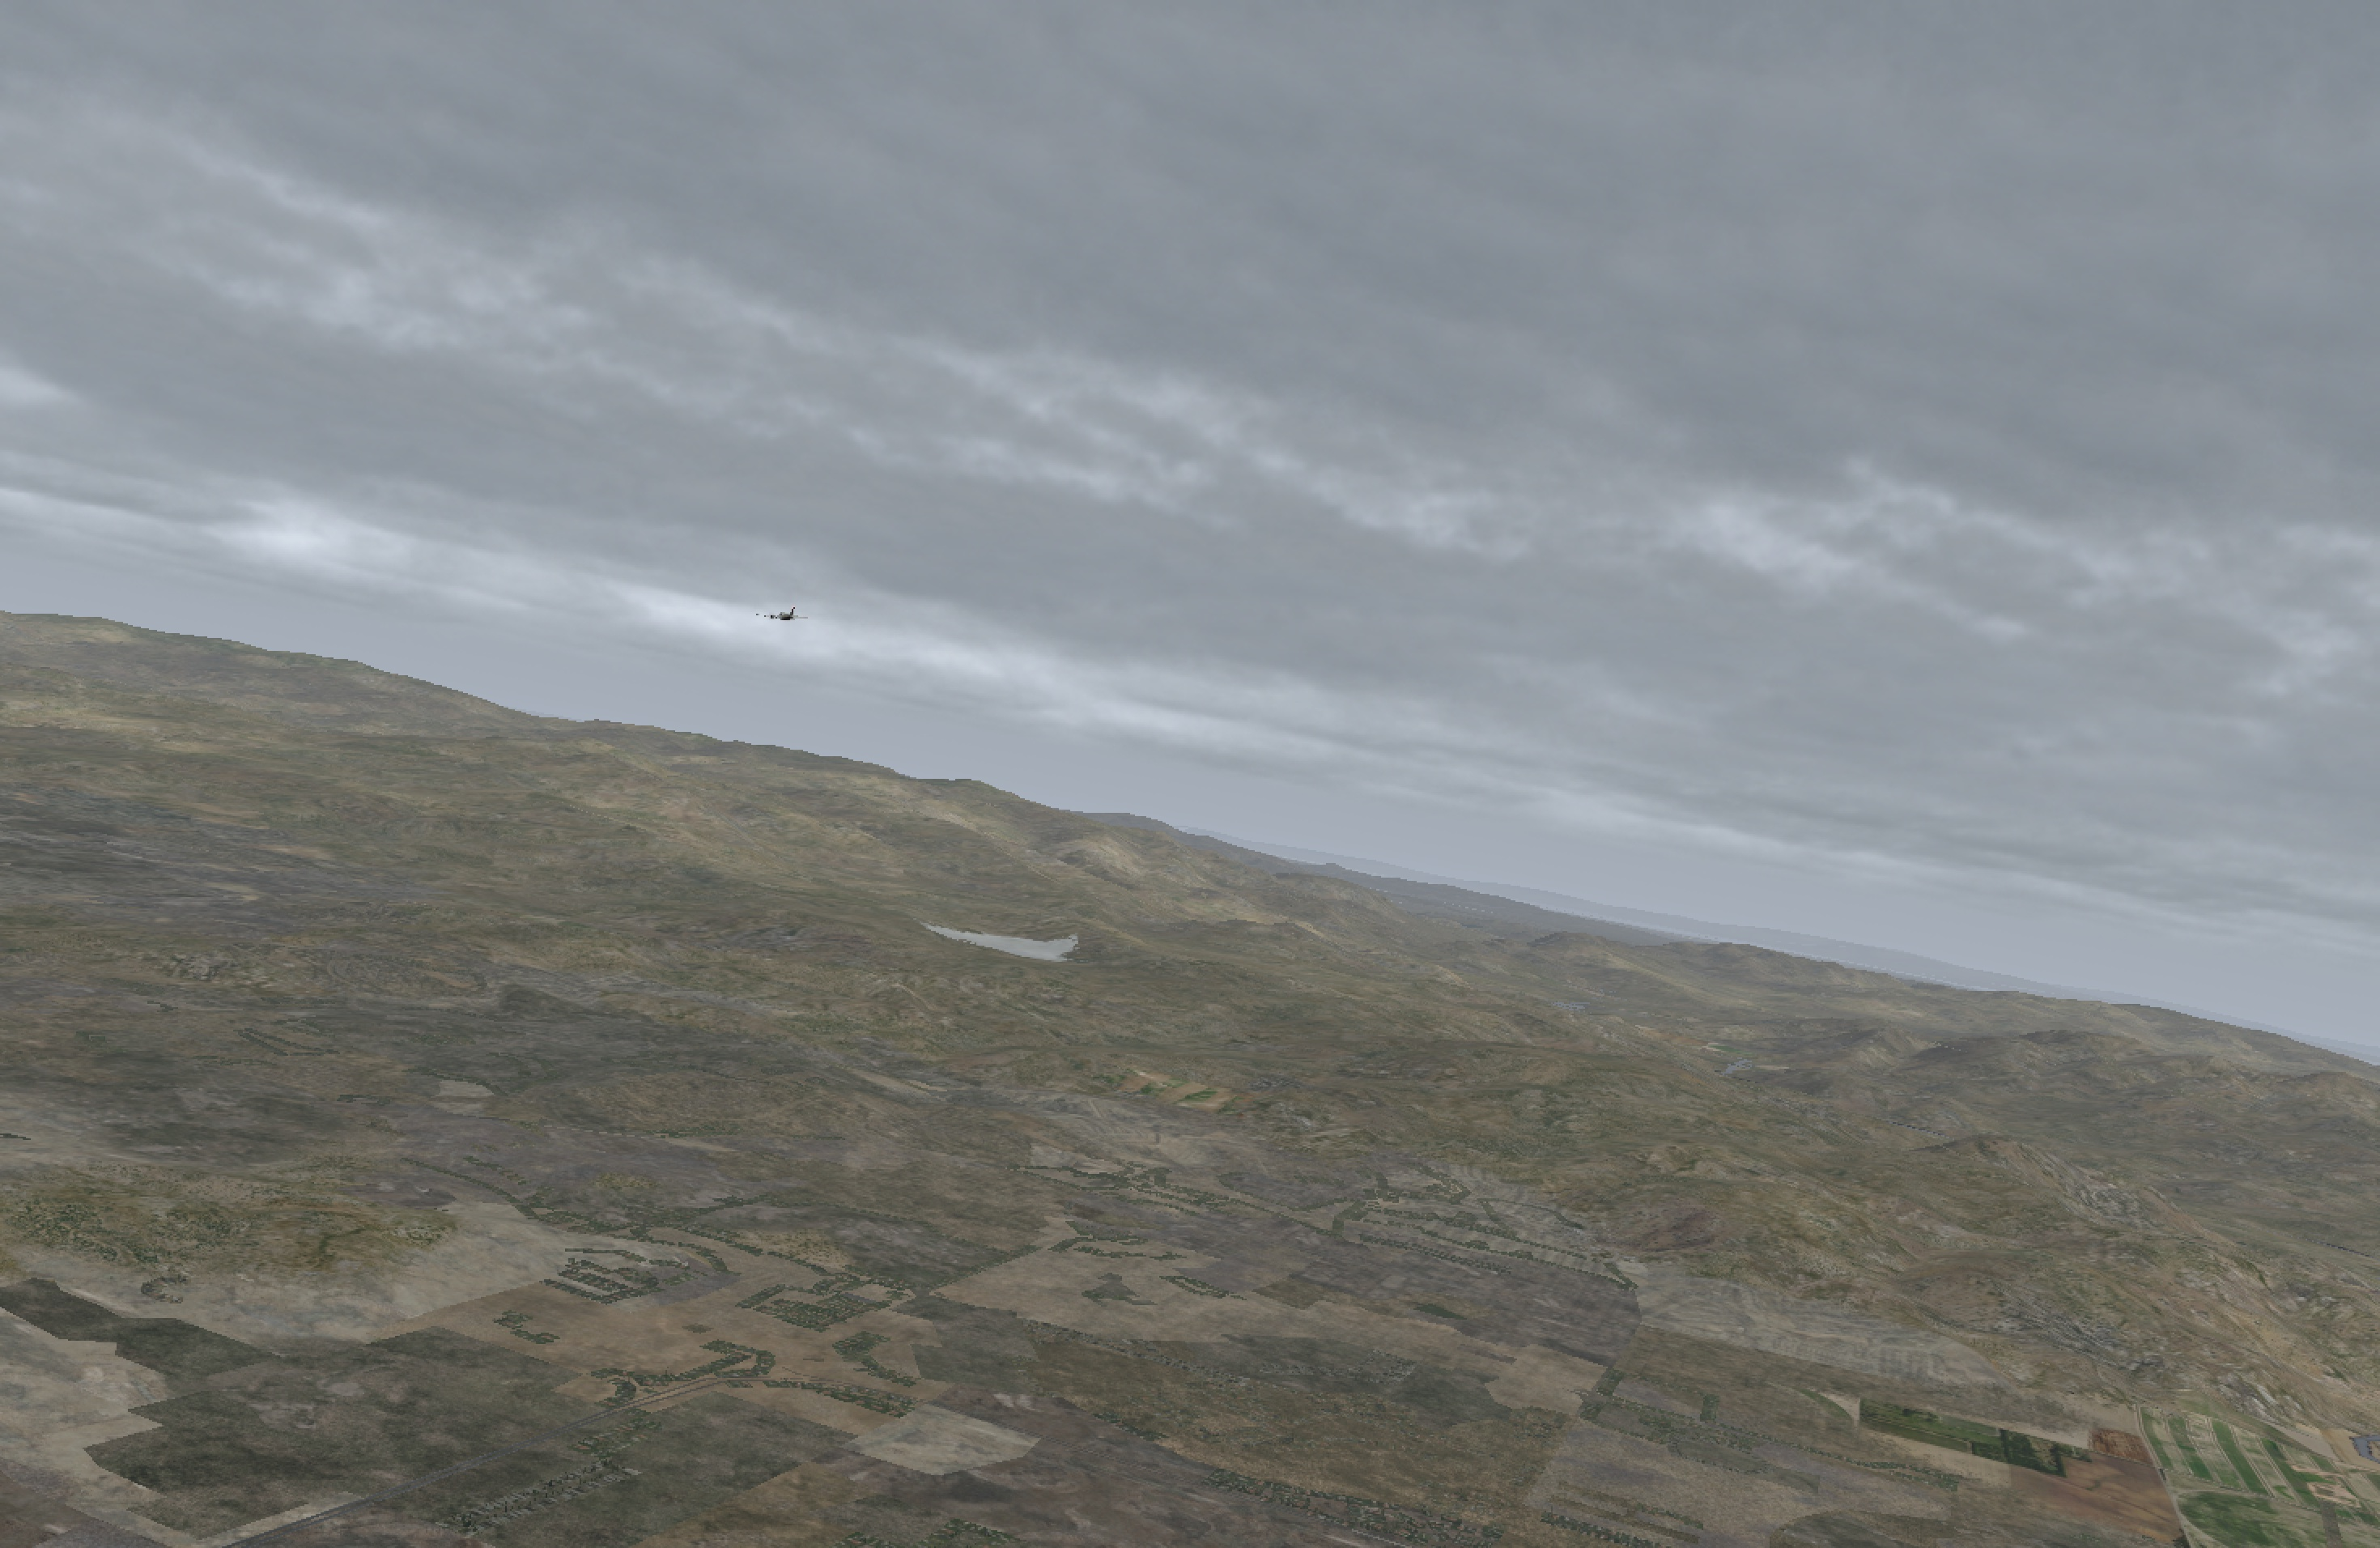aircraft: (751, 607, 814, 632)
